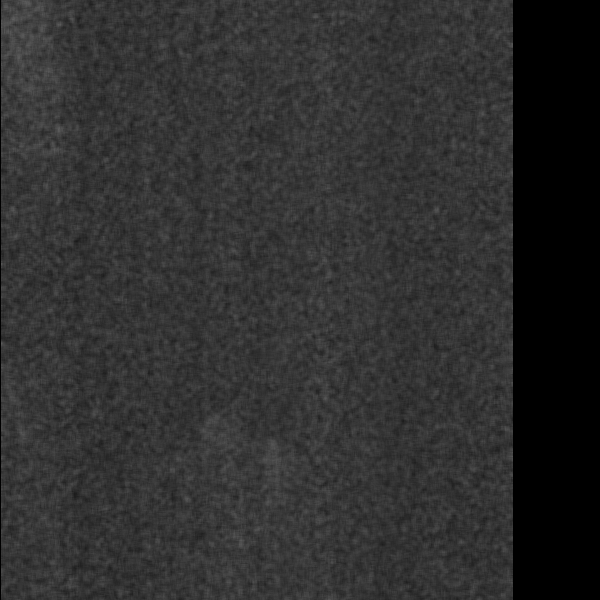spark: (246, 434, 270, 489)
